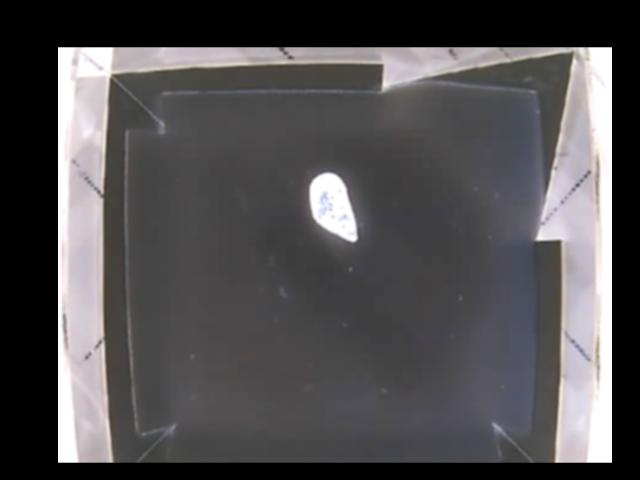Shell: (307, 172, 358, 242)
